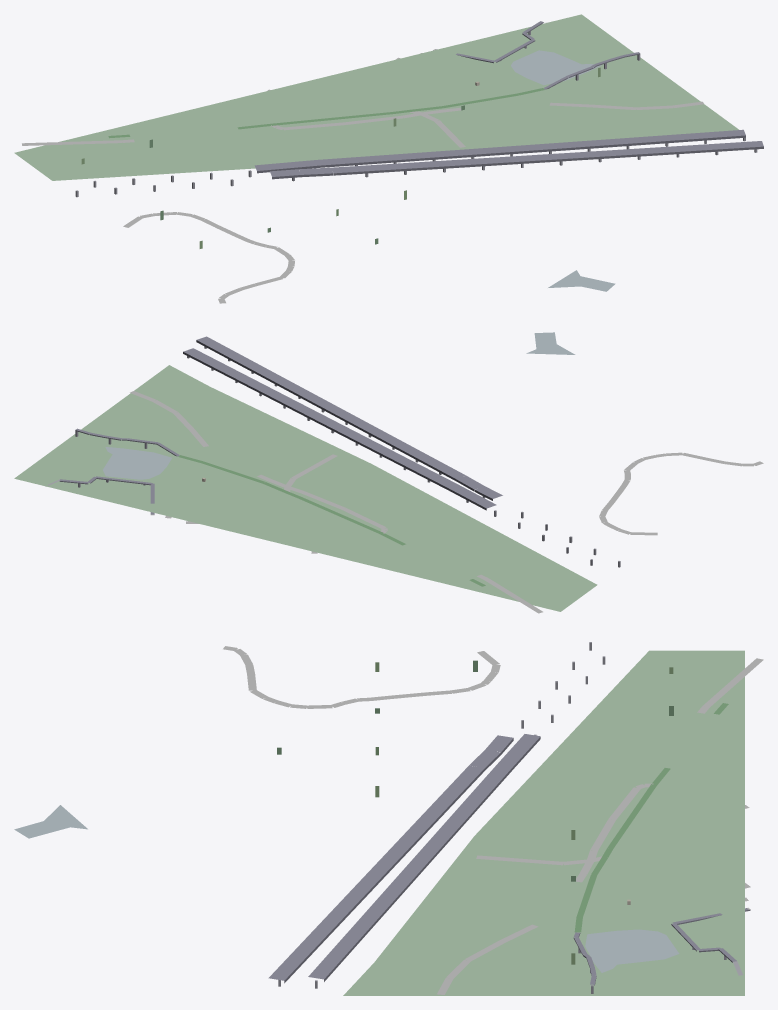
3 views of the same model, one above another, from view 1: azimuth 30°, elevation 25°; view 2: azimuth 150°, elevation 25°; view 3: azimuth 270°, elevation 25° (orthographic). The views are drawn at different scales.
Bounding box in the file's own units: 503 × 11.3 × 459.
